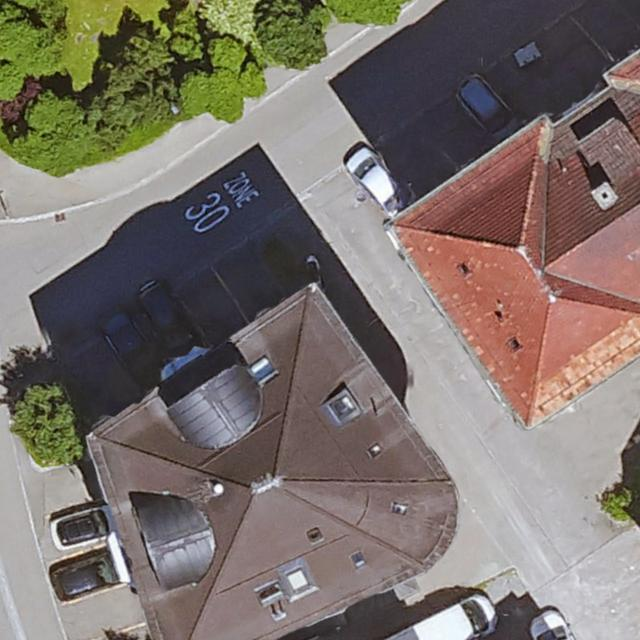tree: (9, 386, 88, 464), (106, 39, 179, 122), (256, 0, 328, 73), (27, 89, 107, 153), (0, 0, 68, 69), (326, 0, 400, 30), (172, 19, 215, 69), (200, 0, 261, 35), (210, 69, 243, 120), (172, 71, 211, 114), (602, 482, 640, 522), (209, 34, 246, 73), (243, 62, 268, 96), (0, 67, 23, 99)
